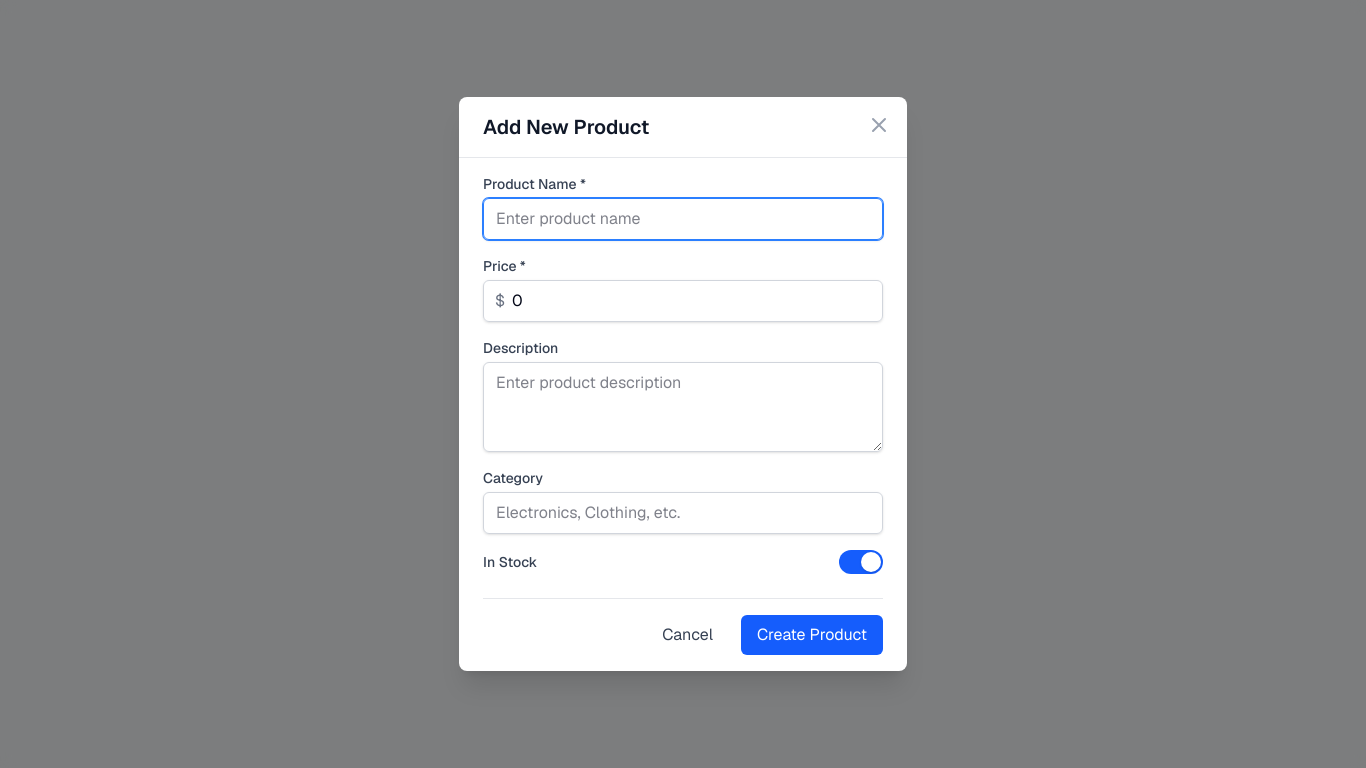
Test case: ProductFormModal › Validation › should show validation errors when submitting empty form
What coordinates should you click on to do the following:
click the button "Create Product"
I would click on:
 (812, 635)
Its box is [741, 615, 883, 655].
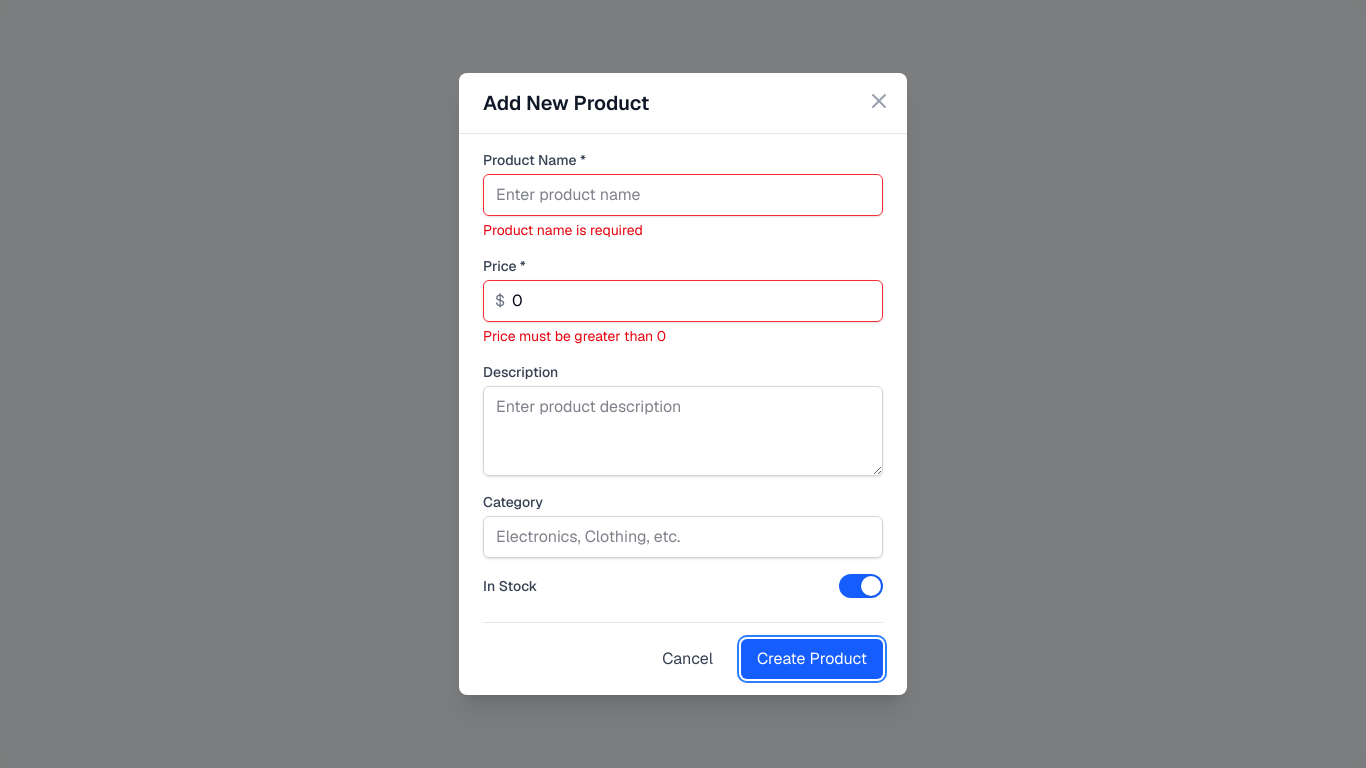
Expected: the text "Product name is required" is shown, [483, 221, 643, 239]
Expected: the text "Price must be greater than 0" is shown, [483, 327, 666, 345]
